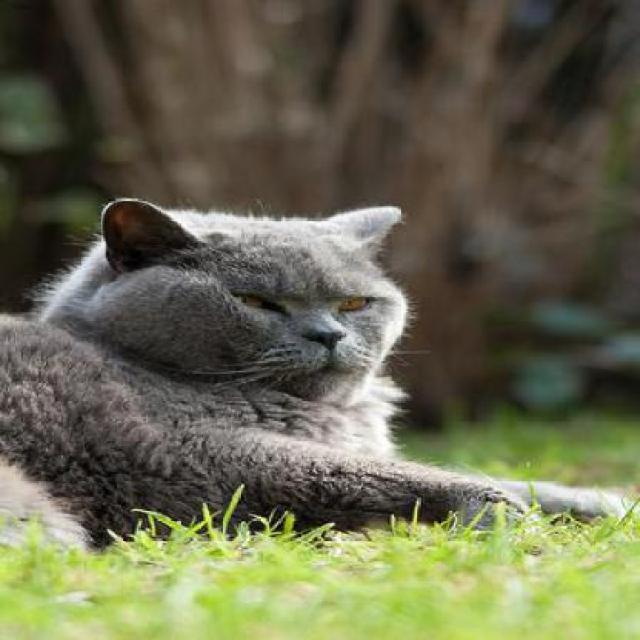cat: (0, 197, 620, 535)
